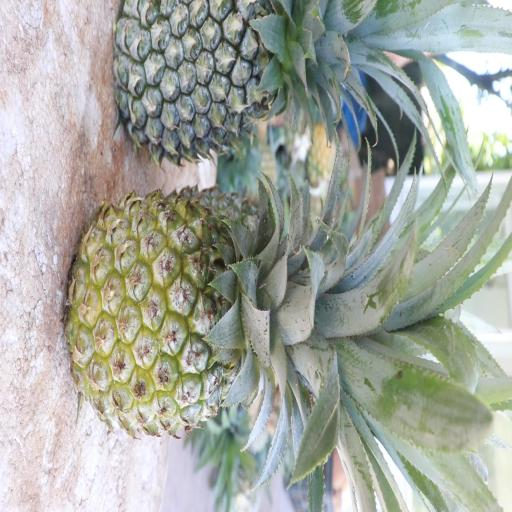------------------------------: (62, 184, 358, 446)
